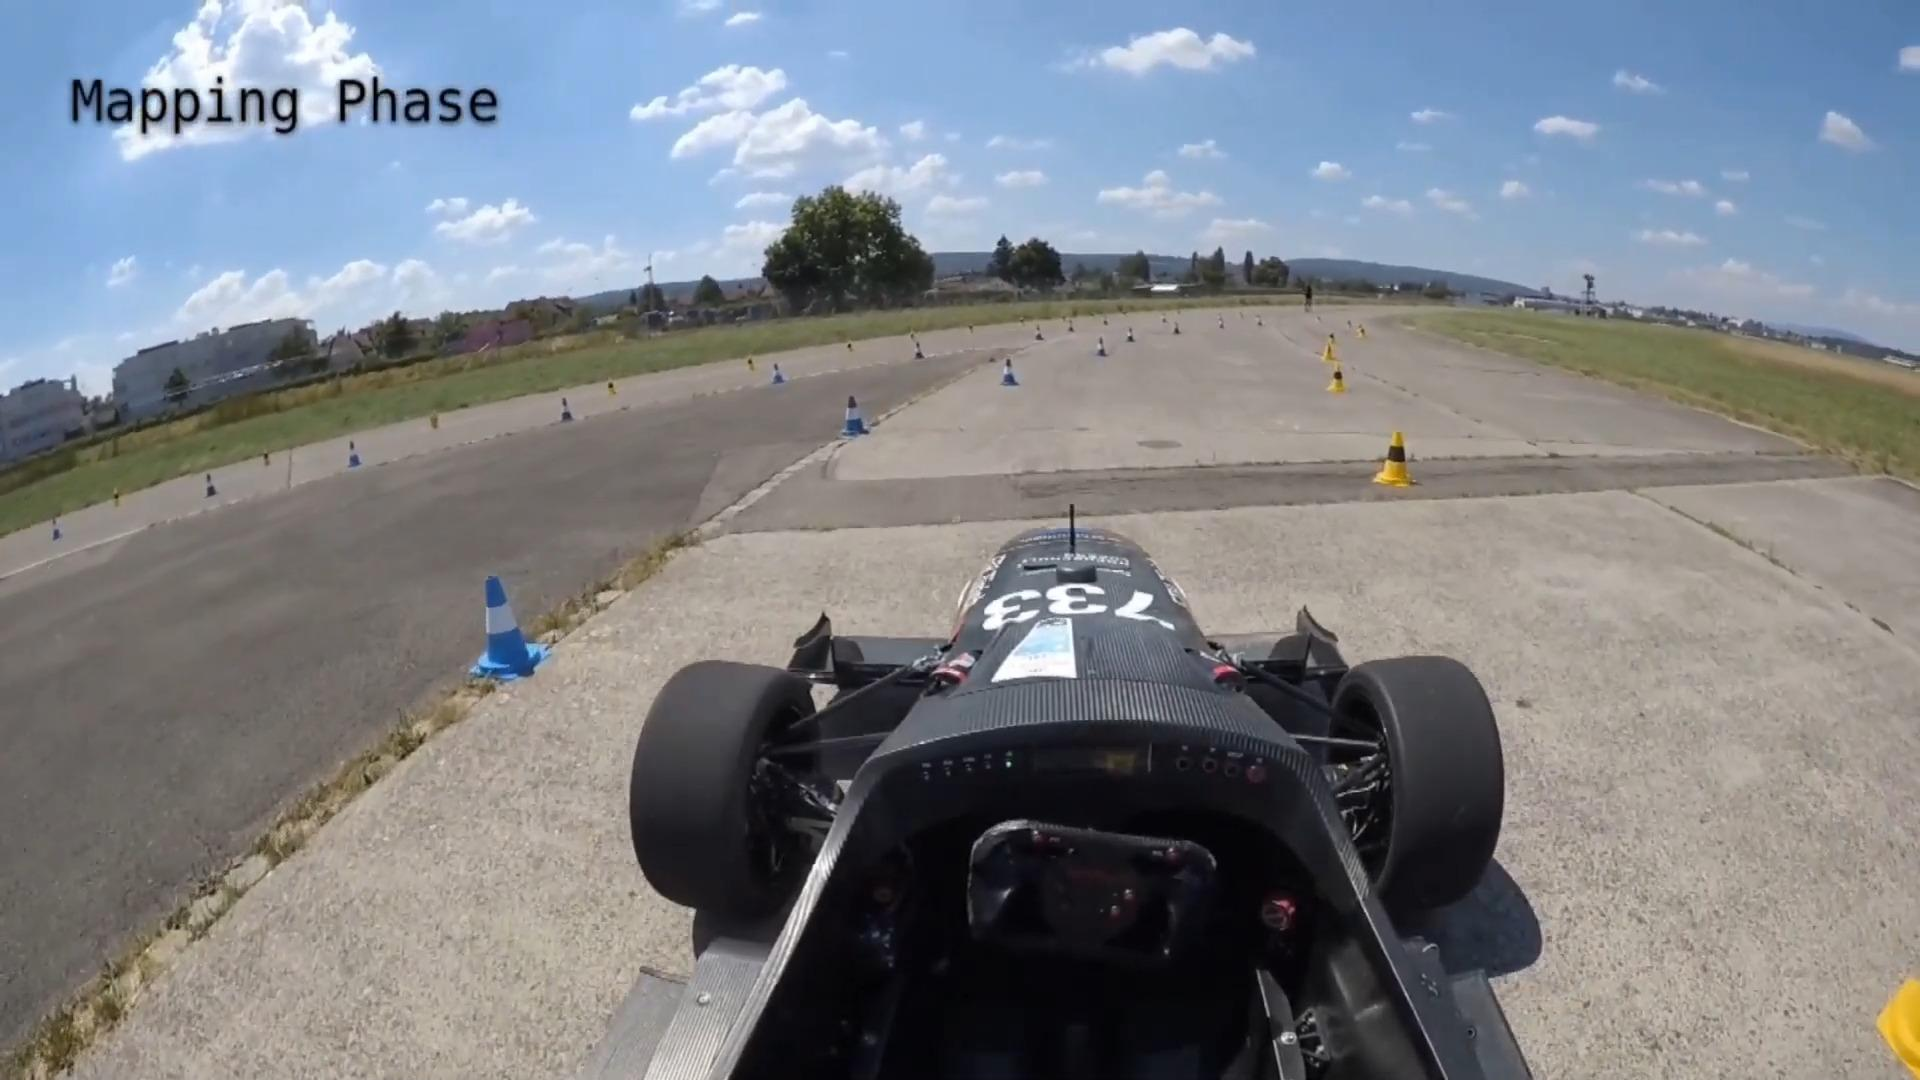blue_cone: (472, 572, 547, 678), (839, 393, 872, 438), (344, 440, 364, 468), (1000, 357, 1018, 386), (558, 396, 575, 423), (203, 472, 219, 500), (770, 363, 785, 385), (50, 518, 63, 542), (1095, 335, 1108, 357)
yellow_cone: (1870, 767, 1920, 1080), (1373, 427, 1418, 491), (1327, 364, 1348, 393), (1320, 343, 1336, 363), (1327, 330, 1338, 347)
